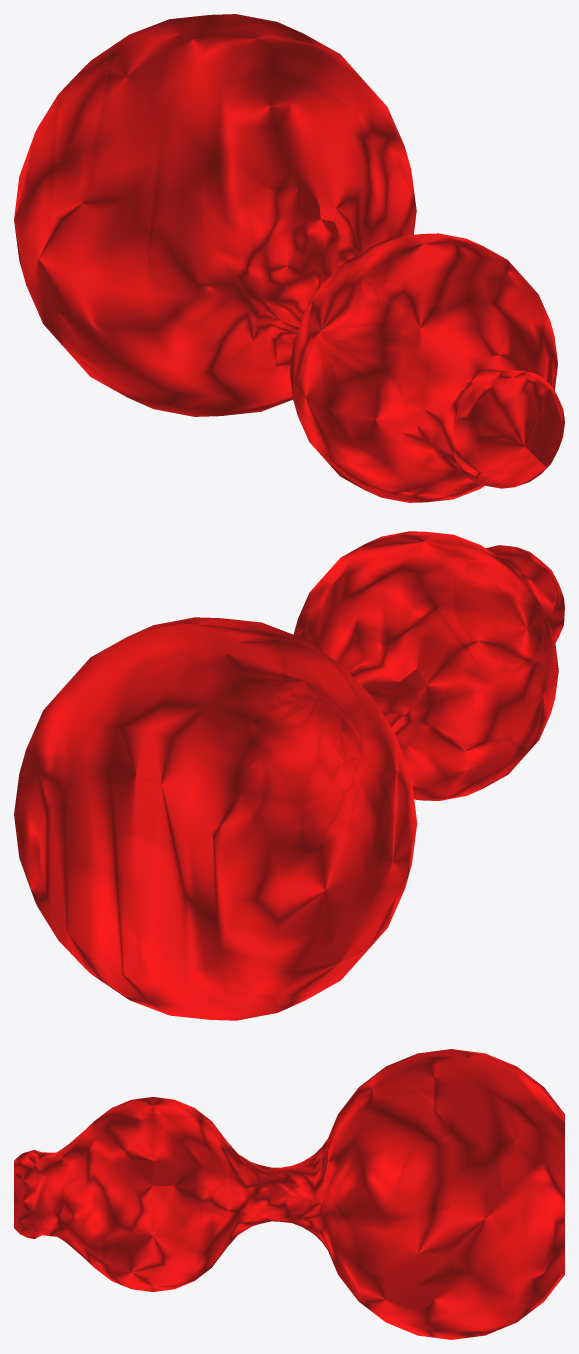
Rendered from model_align.obj.
3 views of the same model, one above another, from view 1: azimuth 30°, elevation 25°; view 2: azimuth 150°, elevation 25°; view 3: azimuth 270°, elevation 25° (orthographic). The views are drawn at different scales.
Size of the model in its own units: 0.0511 by 0.0511 by 0.0965.
